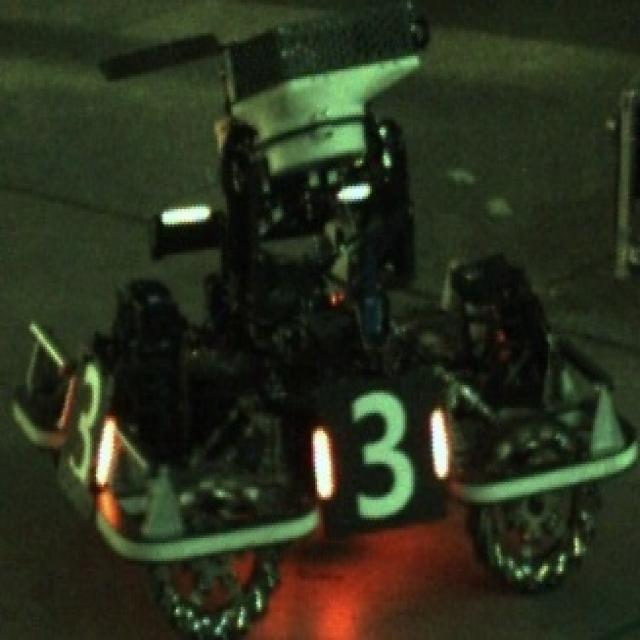R3: (311, 382, 448, 522), (55, 360, 113, 487)
